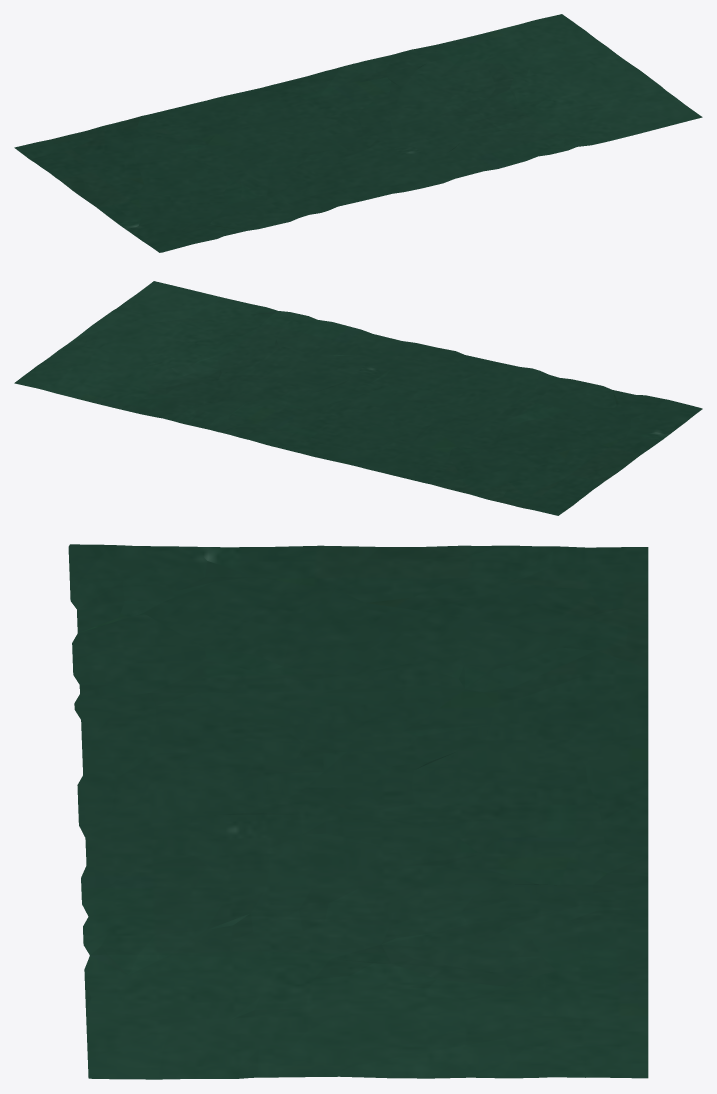
The picture shows the model from 3 angles, top to bottom: view 1: azimuth 30°, elevation 25°; view 2: azimuth 150°, elevation 25°; view 3: azimuth 270°, elevation 25°; orthographic projection. The views are drawn at different scales.
Bounding box in the file's own units: 209 × 1.26 × 96.37.
Materials: 1 (1 with a texture image).
